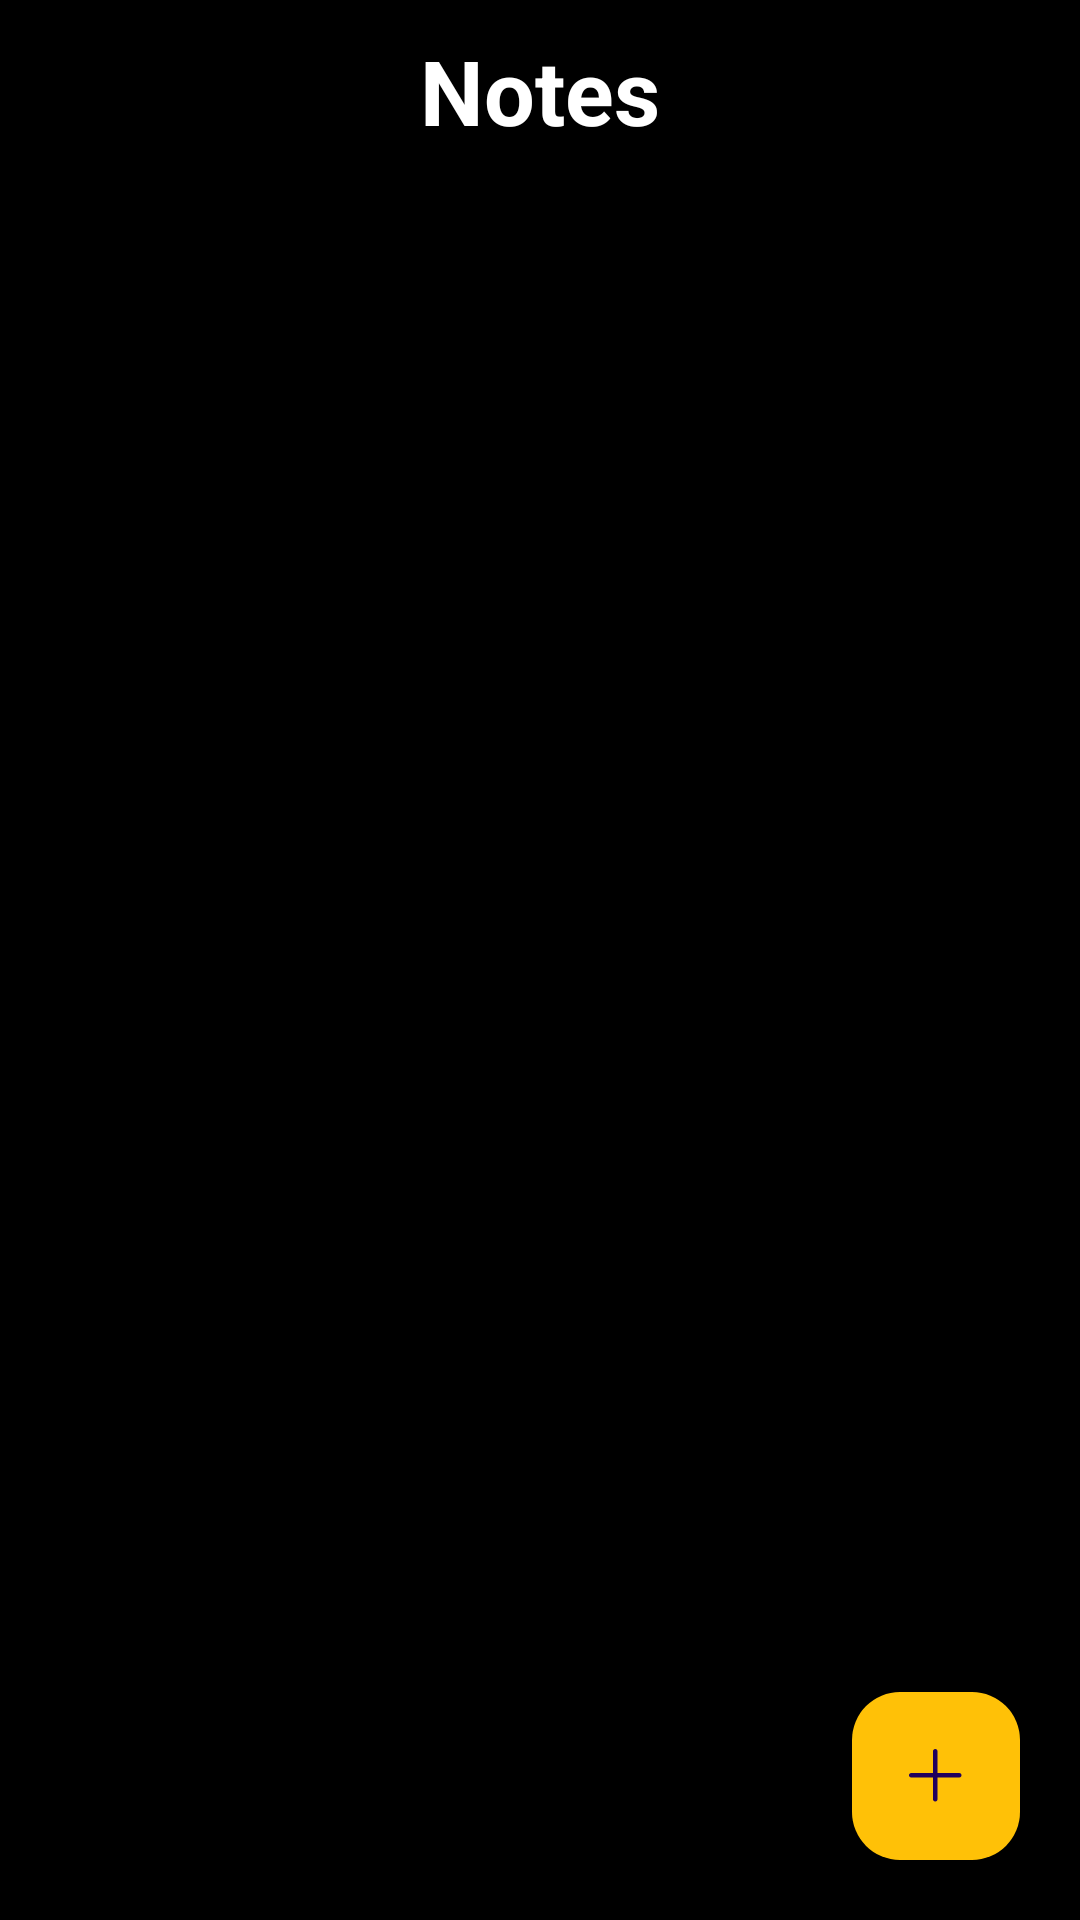

Where icons sit on this 1080*1920 app screen, as (x1, y1, x2, y2):
plus: (852, 1692, 1020, 1860)
